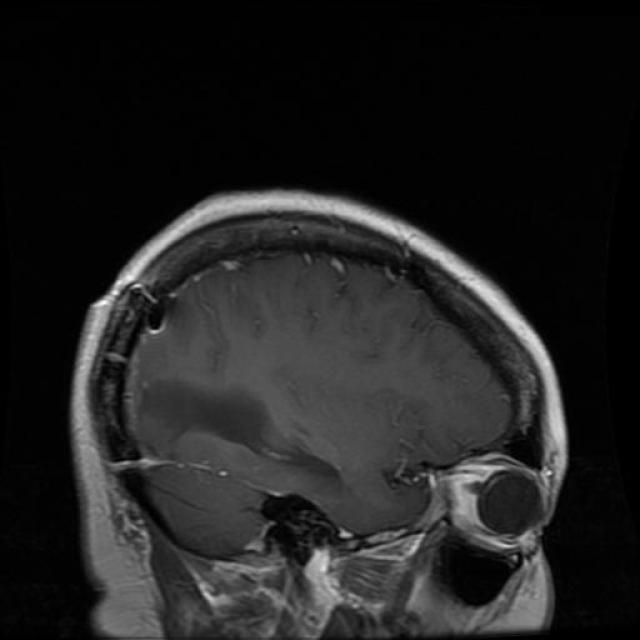glioma: (151, 380, 329, 480)
